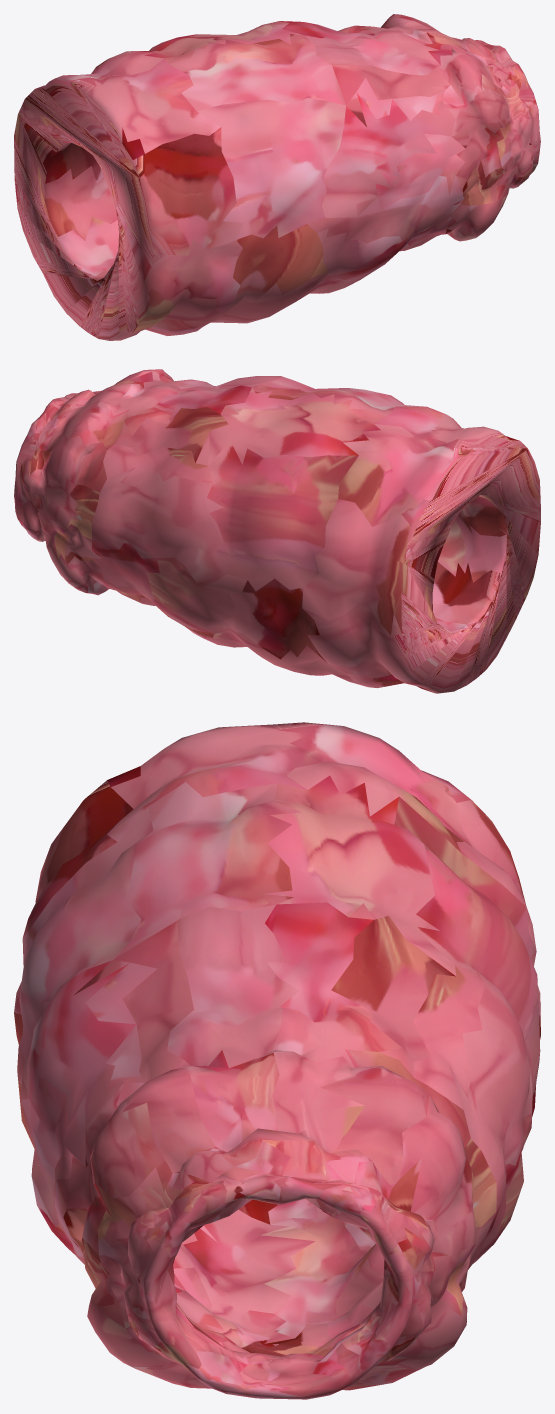
Rendered from Throat33.fbx.
3 views of the same model, one above another, from view 1: azimuth 30°, elevation 25°; view 2: azimuth 150°, elevation 25°; view 3: azimuth 270°, elevation 25° (orthographic). The views are drawn at different scales.
Visible parts, largest first — view 1: Mesh_0; view 2: Mesh_0; view 3: Mesh_0.
Part boxes in pixels (box(x1,y1,x2,y2)): Mesh_0: box(14, 14, 540, 340); Mesh_0: box(14, 369, 540, 693); Mesh_0: box(14, 722, 540, 1399).
Size of the model in its own units: 1.11 by 0.6688 by 0.6919.
